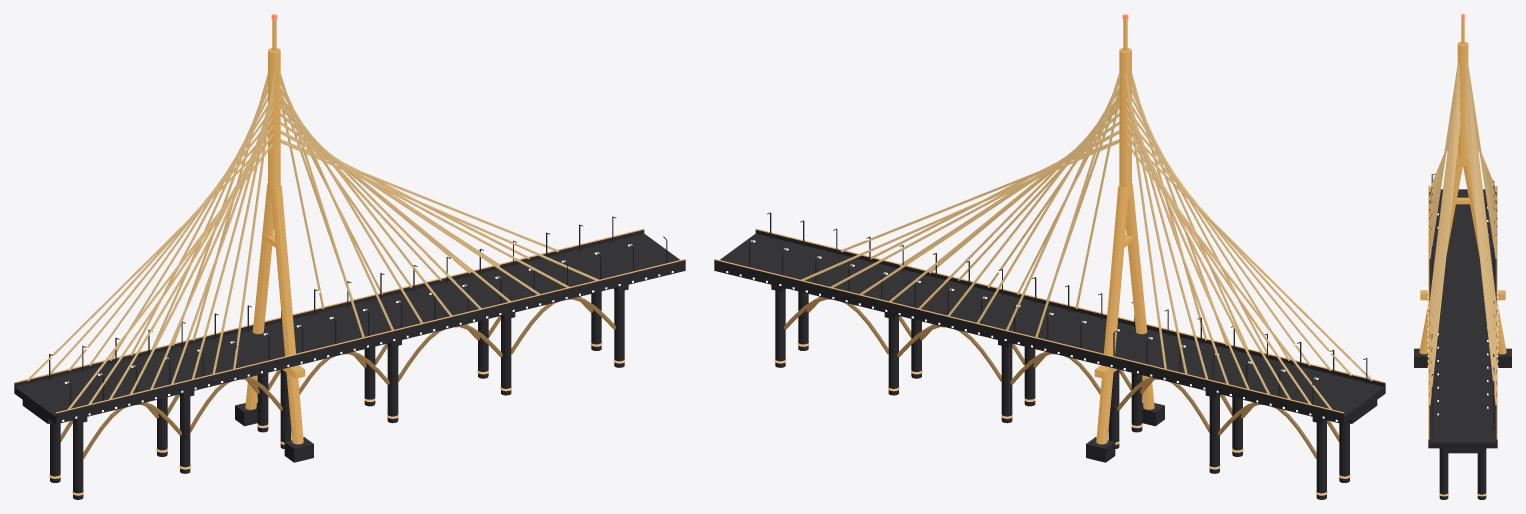
File: earth_bridge.glb
3 renders of one model, left to right at view 1: azimuth 30°, elevation 25°; view 2: azimuth 150°, elevation 25°; view 3: azimuth 270°, elevation 25°, orthographic. The views are drawn at different scales.
Visible parts, largest first — view 1: EarthBridge; view 2: EarthBridge; view 3: EarthBridge.
Part boxes in pixels (x1=…): EarthBridge: x1=14, y1=14, x2=685, y2=499; EarthBridge: x1=714, y1=14, x2=1385, y2=499; EarthBridge: x1=1414, y1=14, x2=1511, y2=499.
Bounding box in the file's own units: 190 × 122 × 31.
